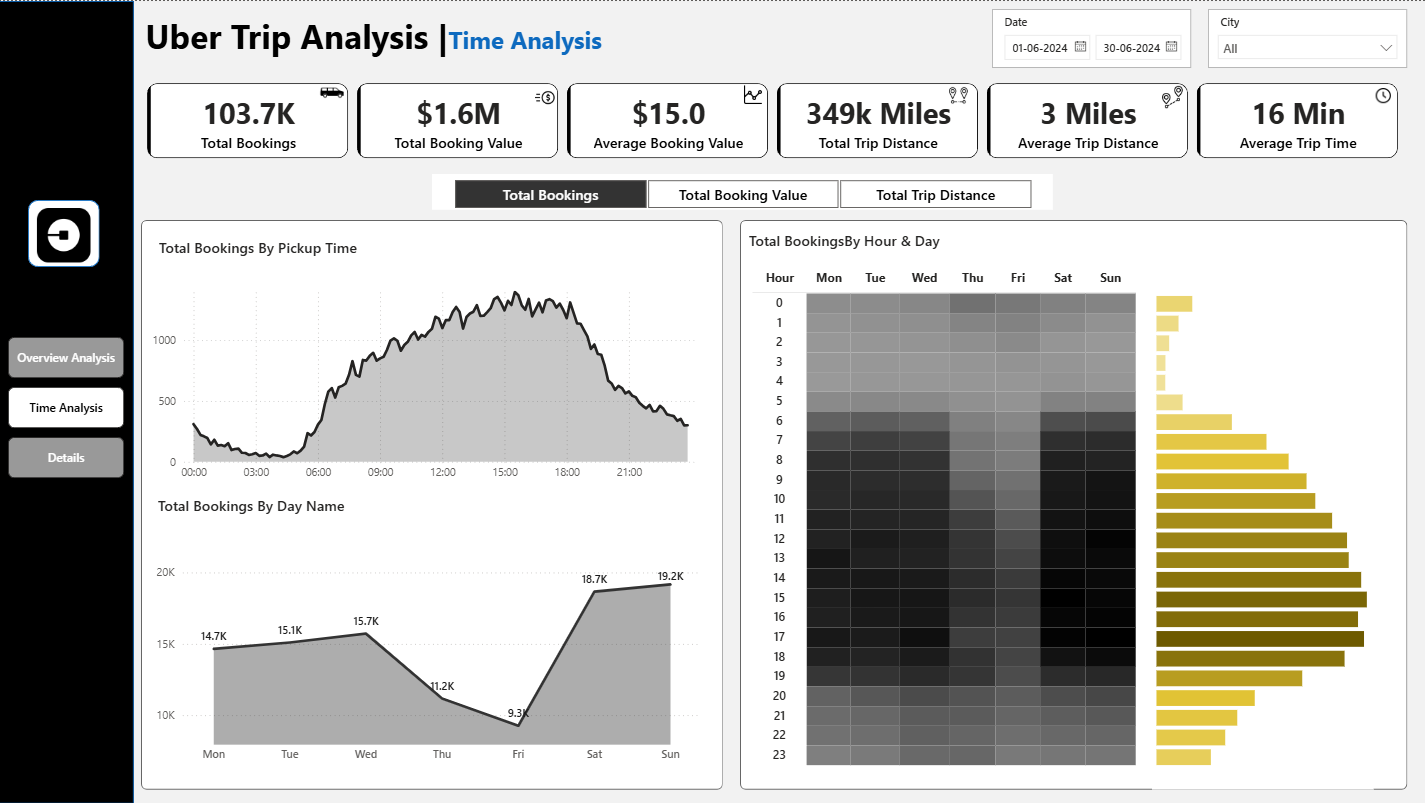

Layout of this report page (visuals, bound fields, positions):
{"tool":"powerbi","page":{"name":"Time Analysis ","canvas":[1600,900],"ordinal":1},"visuals":[{"type":"shape","box":[1.2,0,152,898.5],"z":0},{"type":"shape","box":[35.3,222.5,80.2,75],"z":0,"group":"g1"},{"type":"textbox","box":[161.6,9,616,66.2],"z":1000},{"type":"image","box":[35.3,231.6,80.2,60.8],"z":1000,"group":"g1"},{"type":"cardVisual","fields":{"Data":["Trip Details.Total Bookings","Trip Details.Total Booking Value","Trip Details.Average Baooking Amount","Trip Details.Total Trip Distance","Trip Details.Average Trip Distance","Trip Details.Average Trip Time"]},"box":[151.5,75.2,1437.3,118.9],"z":2000},{"type":"image","box":[1065.9,90.9,21.3,30.3],"z":3000},{"type":"image","box":[1540.5,97.6,23.6,16.8],"z":4000},{"type":"image","box":[1303.8,94.2,24.7,26.9],"z":5000},{"type":"image","box":[602.5,95.4,22.4,25.8],"z":6000},{"type":"image","box":[831.4,93.1,29.2,23.6],"z":7000},{"type":"image","box":[360.2,85.3,29.2,34.8],"z":8000},{"type":"shape","box":[161.7,244.8,651.4,637.7],"z":9000},{"type":"slicer","fields":{"Values":["Dynamic measure.Dynamic measure"]},"box":[487.4,193.6,694.7,39.9],"z":10000},{"type":"slicer","fields":{"Values":["Calendar Table.Date"]},"box":[1114.2,9,223.3,66.2],"z":11000},{"type":"slicer","fields":{"Values":["Location Table.City"]},"box":[1355.4,9,223.3,66.2],"z":12000},{"type":"areaChart","fields":{"Y":["Trip Details.Total Bookings"],"Category":["Trip Details.Pickup Hour (HH MM SS) (bins)"]},"box":[168.5,310.9,624.1,234.6],"z":13000},{"type":"cardVisual","fields":{"Data":["Trip Details.Title for by pickup time"]},"box":[152.6,244.8,351.9,58.1],"z":14000},{"type":"areaChart","fields":{"Y":["Trip Details.Total Bookings"],"Category":["Calendar Table.Day Name"]},"box":[173.1,625.2,619.5,235.7],"z":15000},{"type":"cardVisual","fields":{"Data":["Trip Details.Title for By Day Name"]},"box":[151.5,534.1,351.9,58.1],"z":16000},{"type":"shape","box":[831.3,244.8,747,637.7],"z":17000},{"type":"pivotTable","fields":{"Values":["Trip Details.Total Bookings"],"Columns":["Calendar Table.Day Name"],"Rows":["Trip Details.pickup Hour"]},"box":[840.4,294.9,470.3,570.5],"z":18000},{"type":"barChart","fields":{"Y":["Trip Details.Total Bookings"],"Category":["Trip Details.pickup Hour"]},"box":[1292.5,316.6,248.3,566],"z":19000},{"type":"cardVisual","fields":{"Data":["Trip Details.TITLE FOR  By hour & day"]},"box":[813.1,236.9,351.9,58.1],"z":20000},{"type":"group","id":"g1","title":"Group 1","box":[35.3,222.5,80.2,74.2],"z":20001},{"type":"pageNavigator","box":[12.2,375.7,130.1,158.1],"z":20002}]}

Visuals, with their boxes on the page's 1600x900 design canvas (x1, y1, x2, y2). These are canvas units, not pixel positions in the 1425x803 screenshot, which may show the page scaled, cropped or inside an application window:
shape: (left=1, top=0, right=153, bottom=898)
shape: (left=35, top=222, right=116, bottom=298)
textbox: (left=162, top=9, right=778, bottom=75)
image: (left=35, top=232, right=116, bottom=292)
cardVisual - Trip Details.Total Bookings x Trip Details.Total Booking Value: (left=152, top=75, right=1589, bottom=194)
image: (left=1066, top=91, right=1087, bottom=121)
image: (left=1540, top=98, right=1564, bottom=114)
image: (left=1304, top=94, right=1328, bottom=121)
image: (left=602, top=95, right=625, bottom=121)
image: (left=831, top=93, right=861, bottom=117)
image: (left=360, top=85, right=389, bottom=120)
shape: (left=162, top=245, right=813, bottom=882)
slicer - Dynamic measure.Dynamic measure: (left=487, top=194, right=1182, bottom=234)
slicer - Calendar Table.Date: (left=1114, top=9, right=1338, bottom=75)
slicer - Location Table.City: (left=1355, top=9, right=1579, bottom=75)
areaChart - Trip Details.Total Bookings x Trip Details.Pickup Hour (HH MM SS) (bins): (left=168, top=311, right=793, bottom=546)
cardVisual - Trip Details.Title for by pickup time: (left=153, top=245, right=504, bottom=303)
areaChart - Trip Details.Total Bookings x Calendar Table.Day Name: (left=173, top=625, right=793, bottom=861)
cardVisual - Trip Details.Title for By Day Name: (left=152, top=534, right=503, bottom=592)
shape: (left=831, top=245, right=1578, bottom=882)
pivotTable - Trip Details.Total Bookings x Calendar Table.Day Name: (left=840, top=295, right=1311, bottom=865)
barChart - Trip Details.Total Bookings x Trip Details.pickup Hour: (left=1292, top=317, right=1541, bottom=883)
cardVisual - Trip Details.TITLE FOR  By hour & day: (left=813, top=237, right=1165, bottom=295)
"Group 1" group: (left=35, top=222, right=116, bottom=297)
pageNavigator: (left=12, top=376, right=142, bottom=534)
